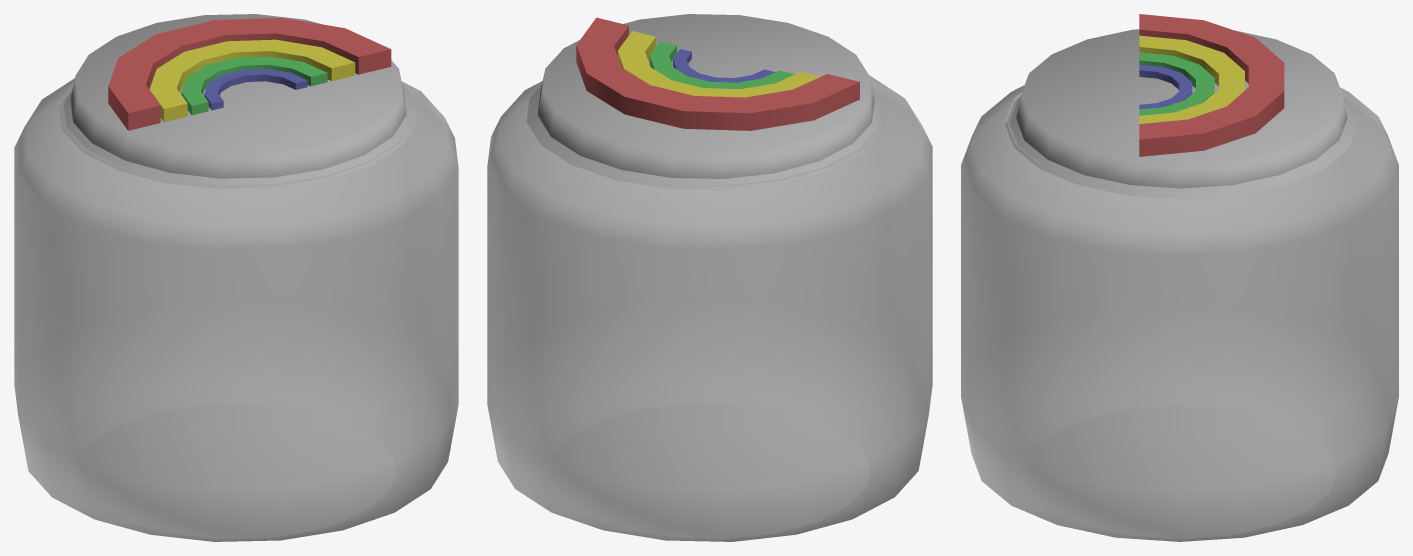
The model's file is Imagination.fbx.
3 renders of one model, left to right at view 1: azimuth 30°, elevation 25°; view 2: azimuth 150°, elevation 25°; view 3: azimuth 270°, elevation 25°, orthographic. The views are drawn at different scales.
Visible parts, largest first — view 1: polySurface18; view 2: polySurface18; view 3: polySurface18.
Part boxes in pixels (left/top/right/bottom): polySurface18: left=14, top=14, right=458, bottom=541; polySurface18: left=487, top=14, right=932, bottom=541; polySurface18: left=961, top=14, right=1398, bottom=541.
Size of the model in its own units: 6.53 by 6.52 by 6.53.
